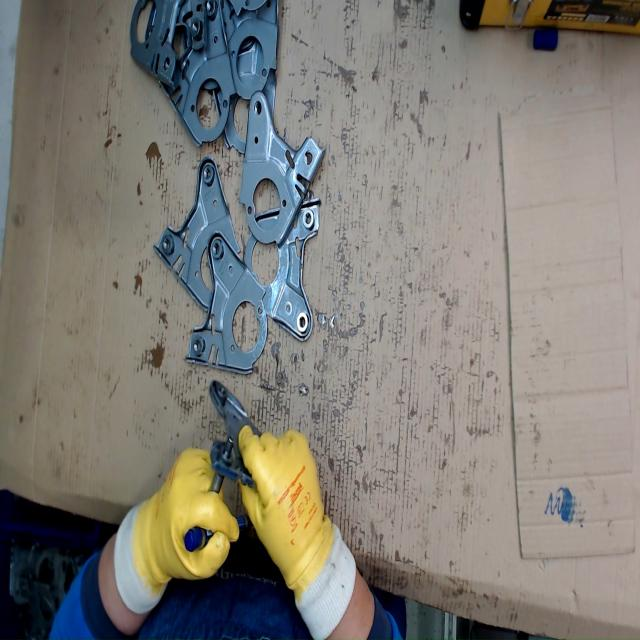hands: (235, 426, 332, 586), (140, 446, 240, 580)
